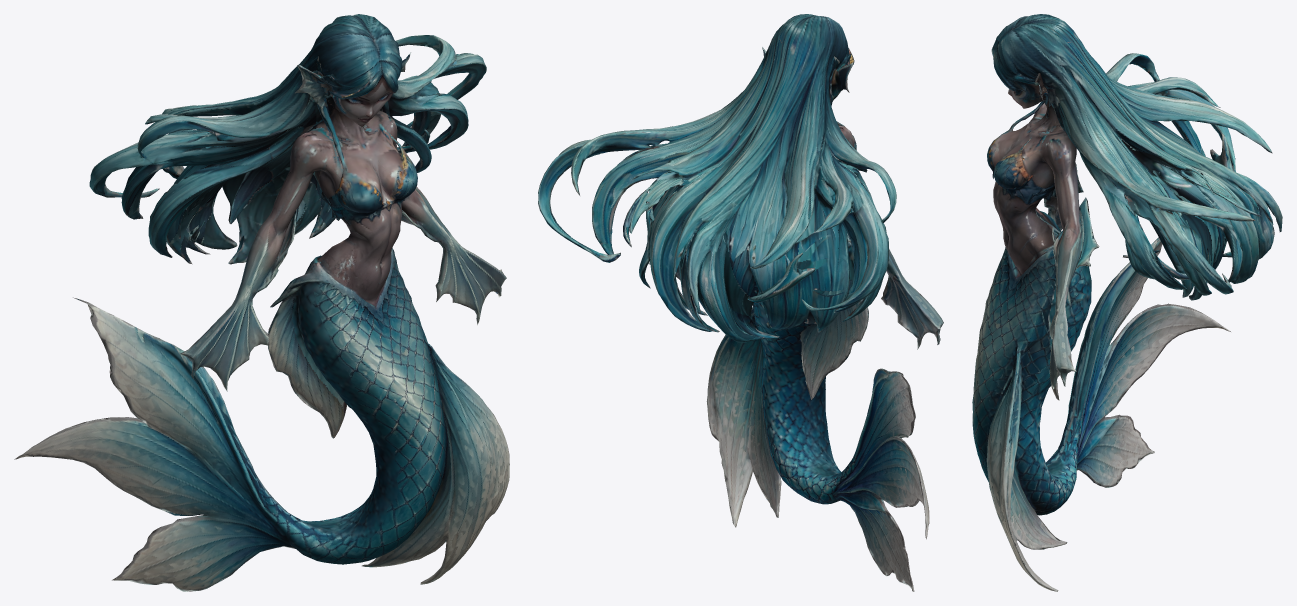
The picture shows the model from 3 angles, left to right: view 1: azimuth 30°, elevation 25°; view 2: azimuth 150°, elevation 25°; view 3: azimuth 270°, elevation 25°; orthographic projection. The views are drawn at different scales.
Visible parts, largest first — view 1: surface_7; view 2: surface_7; view 3: surface_7.
Part boxes in pixels (x1,y1,x2,y2): surface_7: [14, 14, 509, 591]; surface_7: [538, 14, 943, 591]; surface_7: [972, 14, 1282, 591].
Size of the model in its own units: 0.7965 by 0.9991 by 0.5188.
1 material, 1 textured.
